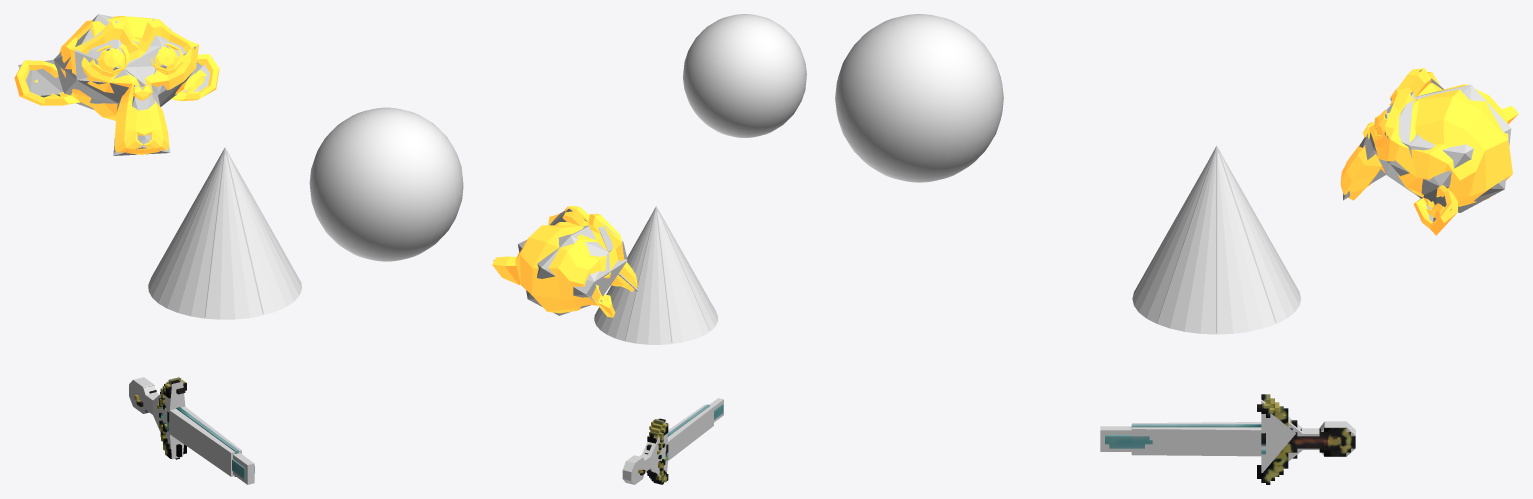
The model's file is map.new.glb.
The picture shows the model from 3 angles, left to right: view 1: azimuth 30°, elevation 25°; view 2: azimuth 150°, elevation 25°; view 3: azimuth 270°, elevation 25°; orthographic projection. The views are drawn at different scales.
Parts seen in each view (by area): view 1: Sphere, Cone, monkey, monkey_col, sword_col, sword, Cone_col; view 2: Sphere, Cone, monkey, monkey_col, sword_col, sword, Cone_col; view 3: Sphere, Cone, monkey, sword_col, monkey_col, sword, Cone_col.
Part boxes in pixels (left/top/right/bottom): Sphere: left=309, top=107, right=463, bottom=261; Cone: left=148, top=153, right=301, bottom=319; monkey: left=14, top=15, right=219, bottom=154; monkey_col: left=18, top=14, right=212, bottom=155; sword_col: left=129, top=377, right=254, bottom=484; sword: left=134, top=377, right=254, bottom=479; Cone_col: left=151, top=147, right=298, bottom=317; Sphere: left=683, top=14, right=806, bottom=137; Cone: left=594, top=211, right=718, bottom=344; monkey: left=492, top=206, right=637, bottom=317; monkey_col: left=493, top=208, right=638, bottom=315; sword_col: left=622, top=398, right=723, bottom=484; sword: left=638, top=404, right=723, bottom=484; Cone_col: left=596, top=206, right=715, bottom=342; Sphere: left=835, top=14, right=1003, bottom=182; Cone: left=1132, top=152, right=1300, bottom=334; monkey: left=1340, top=68, right=1518, bottom=235; sword_col: left=1100, top=399, right=1355, bottom=472; monkey_col: left=1343, top=70, right=1516, bottom=221; sword: left=1105, top=394, right=1355, bottom=484; Cone_col: left=1133, top=145, right=1300, bottom=332.
Bounding box in the file's own units: 2.61 × 6.38 × 8.1.
Materials: 3 (1 with a texture image).
